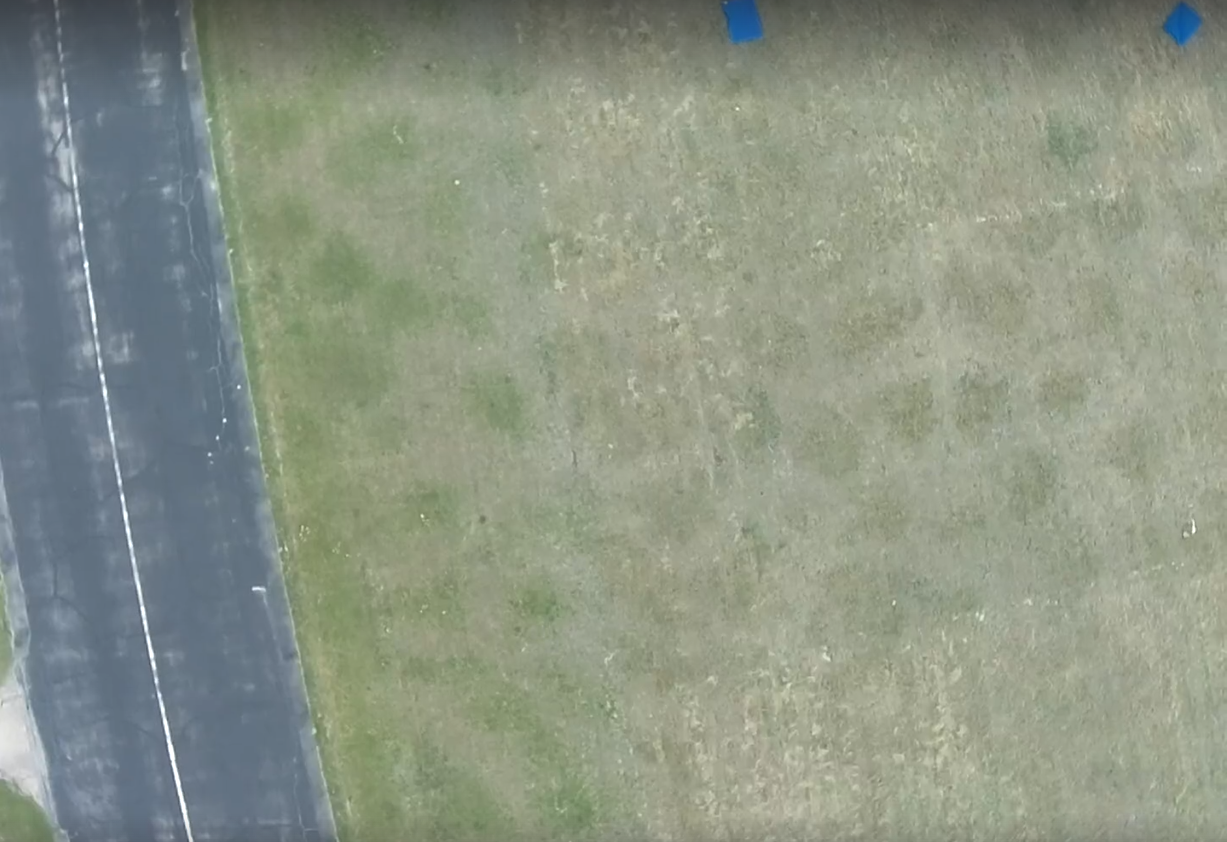TOI: (719, 1, 764, 45), (1161, 1, 1204, 47)
